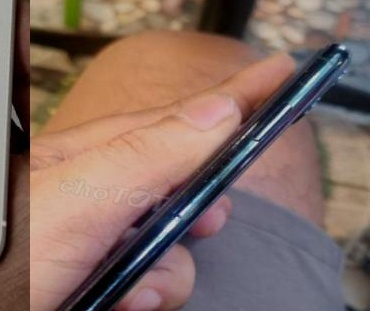scratch: (162, 136, 248, 197)
